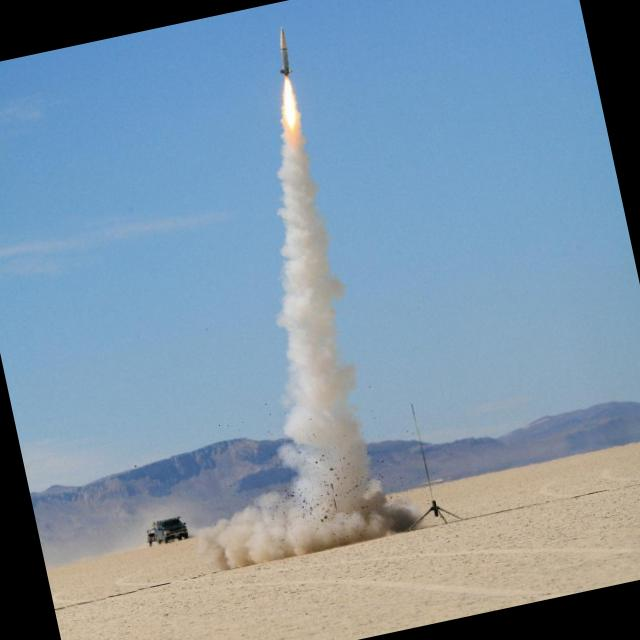rocket: (243, 18, 324, 188)
